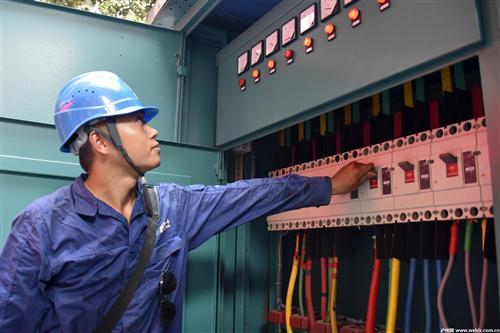gloves: (159, 300, 176, 324)
hard-hat: (54, 70, 159, 153)
person: (1, 69, 376, 333)
vest: (1, 171, 333, 332)
